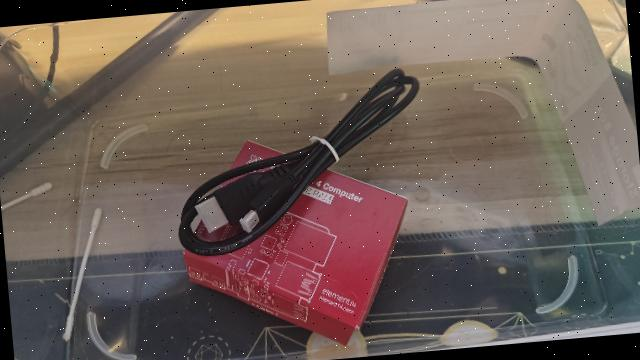hdmi_cable: (167, 69, 431, 257)
rpi_box: (164, 126, 424, 359)
